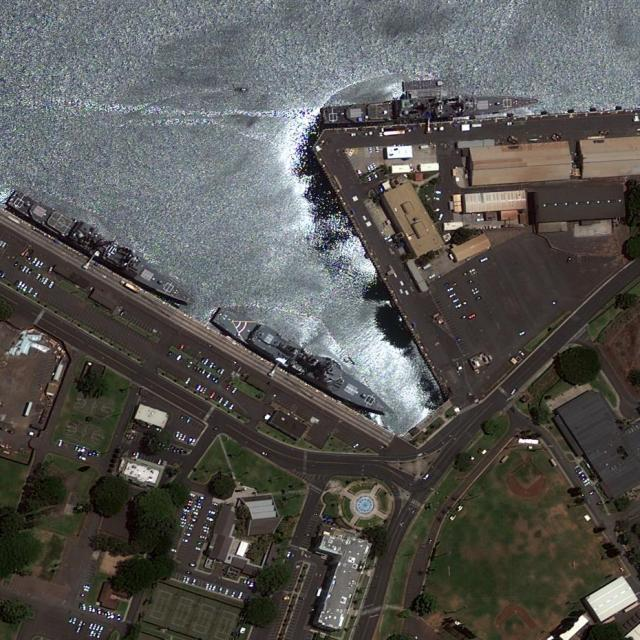Cruiser: (6, 186, 198, 310), (320, 92, 539, 127)
Other Warship: (209, 299, 398, 427)
